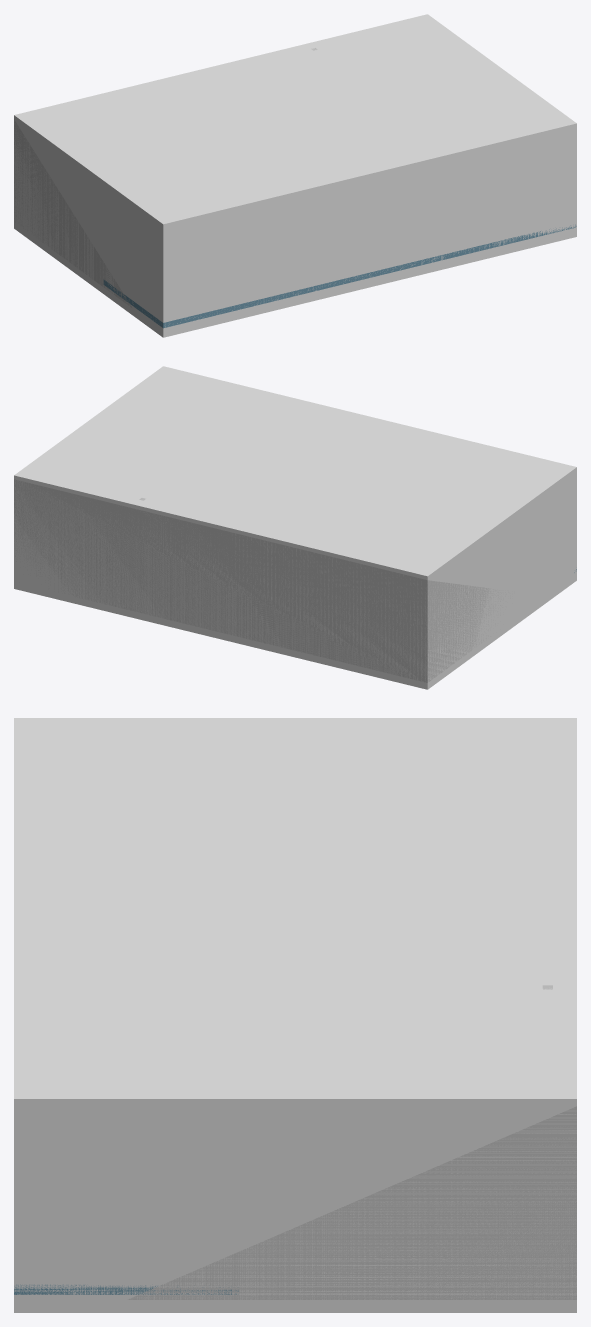
Rendered from city_riverbank.glb.
3 renders of one model, top to bottom at view 1: azimuth 30°, elevation 25°; view 2: azimuth 150°, elevation 25°; view 3: azimuth 270°, elevation 25°, orthographic. The views are drawn at different scales.
Parts seen in each view (by area): view 1: COL_riverbank, riverbank; view 2: COL_riverbank, riverbank; view 3: COL_riverbank, riverbank.
Boxes of the visible parts, x1,y1,x2,y2 form: COL_riverbank: (14, 14, 576, 337); riverbank: (14, 48, 576, 328); COL_riverbank: (14, 366, 576, 689); riverbank: (14, 479, 576, 682); COL_riverbank: (14, 718, 576, 1312); riverbank: (14, 985, 576, 1299).
Bounding box in the file's own units: 8 × 2.1 × 5.
